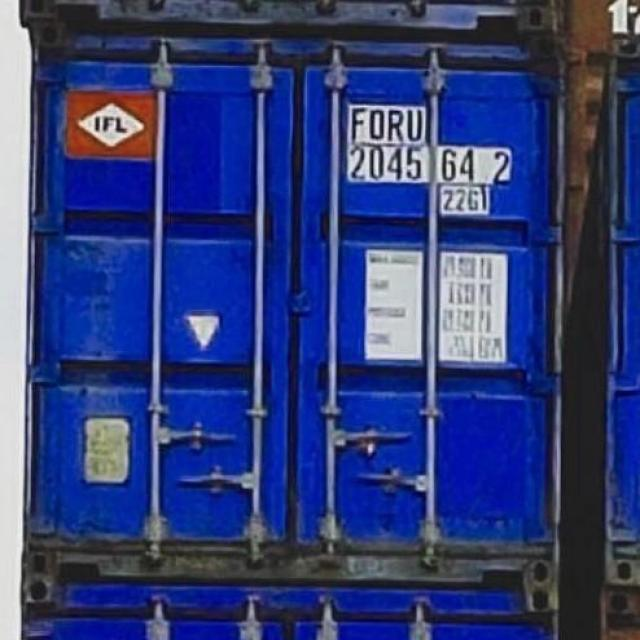ISO: (444, 190, 492, 217)
container_number: (350, 106, 520, 185)
